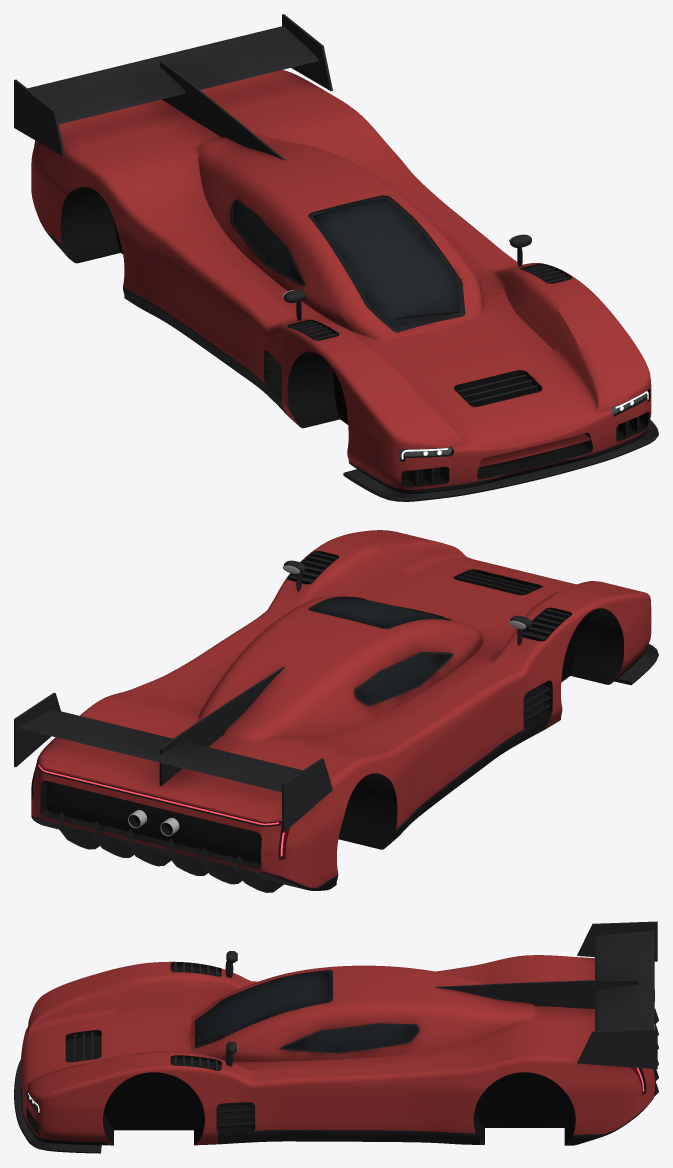
The model's file is specter.glb.
The picture shows the model from 3 angles, top to bottom: view 1: azimuth 30°, elevation 25°; view 2: azimuth 150°, elevation 25°; view 3: azimuth 270°, elevation 25°; orthographic projection. The views are drawn at different scales.
Visible parts, largest first — view 1: paint, carbon, trim, window; view 2: paint, carbon, trim, grille, window, tail, tailglow, chrome; view 3: paint, carbon, trim, window, grille.
Boxes of the visible parts, x1,y1,x2,y2 form: paint: (31,70,651,489); carbon: (14,14,658,501); trim: (34,140,650,493); window: (233,196,464,328); paint: (31,530,651,888); carbon: (14,552,658,892); trim: (31,551,624,868); grille: (46,556,566,863); window: (309,598,450,703); tail: (33,763,289,858); tailglow: (38,764,284,856); chrome: (128,565,525,836); paint: (20,955,654,1145); carbon: (14,921,658,1153); trim: (21,962,654,1145); window: (199,971,417,1051); grille: (65,965,254,1128).
Size of what is drawn, in the model's own units: 2.15 by 1.04 by 5.04.
